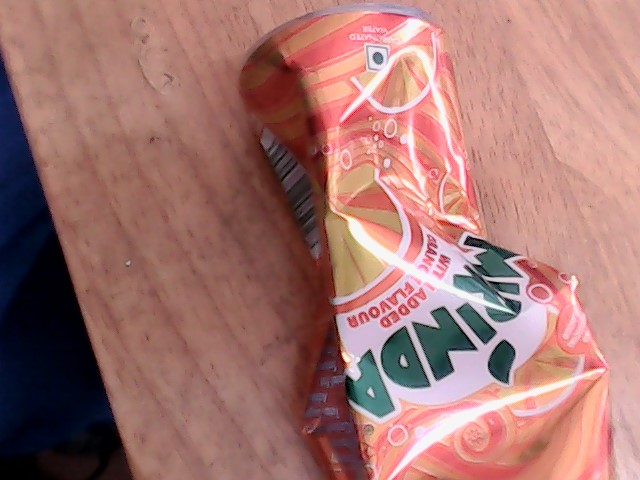Metal: (231, 50, 587, 480)
